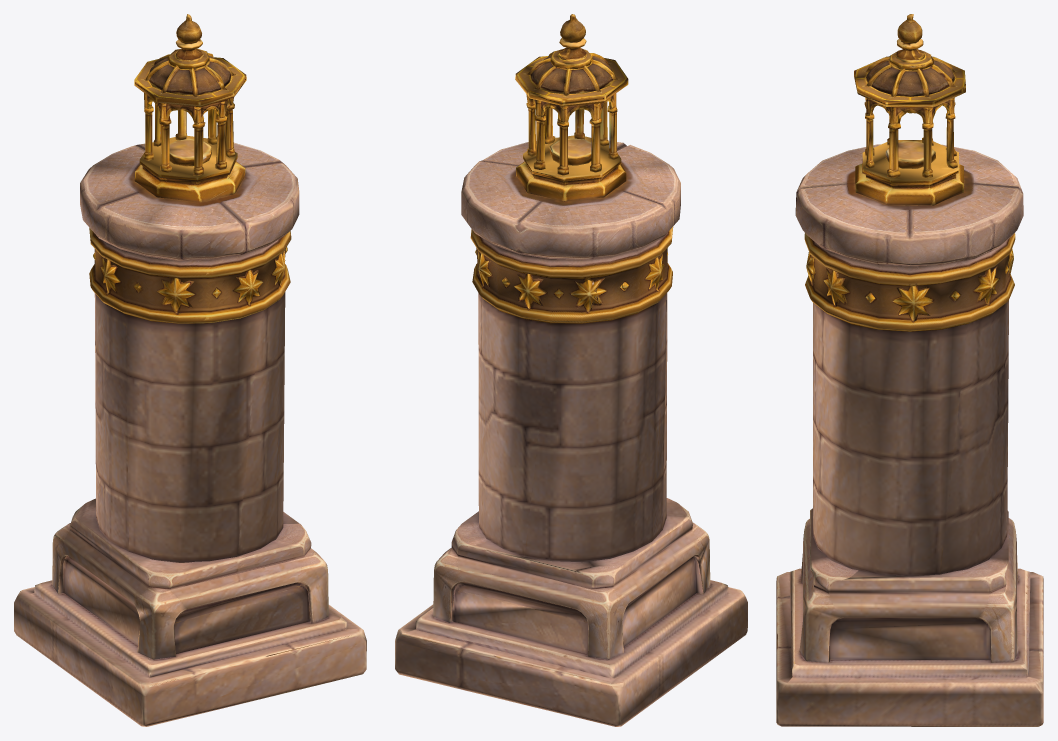
File: post.glb
3 renders of one model, left to right at view 1: azimuth 30°, elevation 25°; view 2: azimuth 150°, elevation 25°; view 3: azimuth 270°, elevation 25°, orthographic. The views are drawn at different scales.
Parts seen in each view (by area): view 1: Mesh_0; view 2: Mesh_0; view 3: Mesh_0.
Part boxes in pixels (box(x1,y1,x2,y2)): Mesh_0: box(14, 14, 366, 726); Mesh_0: box(395, 14, 747, 726); Mesh_0: box(776, 14, 1043, 726).
Size of the model in its own units: 1.5 by 4.06 by 1.5.
1 material, 1 textured.
